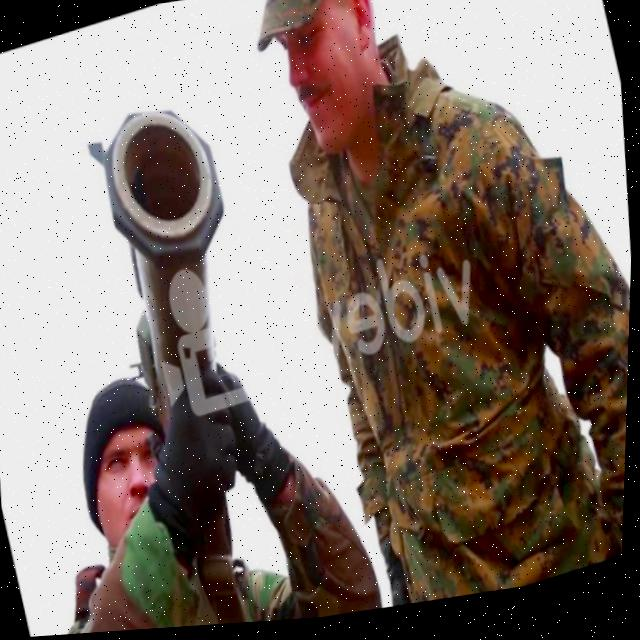rocket: (69, 80, 280, 455)
